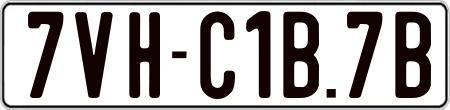1: (243, 9, 273, 101)
7: (27, 9, 67, 96), (347, 12, 384, 103)
B: (393, 12, 431, 99), (281, 9, 317, 98)
C: (199, 12, 235, 103)
H: (129, 9, 161, 95)
V: (75, 10, 114, 97)
